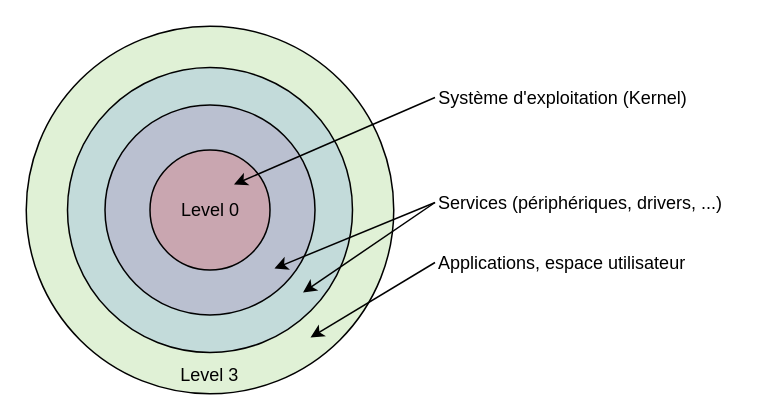
Image size: 776x420. Some labels were removed from this diagram. Each missing label, with the box of its shape:
Level 1: (104, 104, 315, 315)
Level 2: (66, 66, 352, 352)
